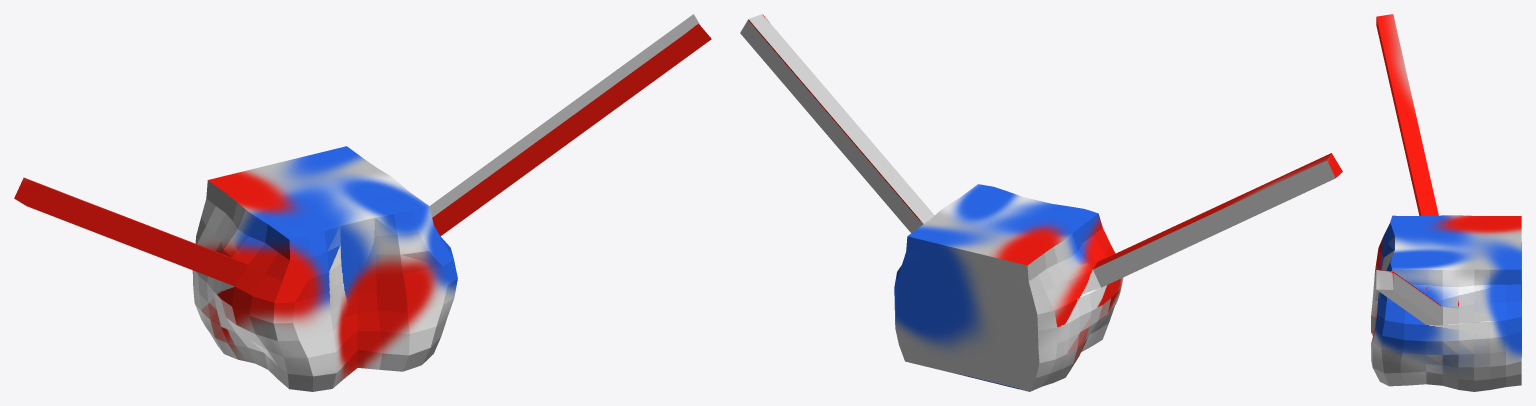
3 views of the same model, side by side, from view 1: azimuth 30°, elevation 25°; view 2: azimuth 150°, elevation 25°; view 3: azimuth 270°, elevation 25° (orthographic). The views are drawn at different scales.
Parts seen in each view (by area): view 1: Cube; view 2: Cube; view 3: Cube.
Part boxes in pixels (left/top/right/bottom): Cube: left=14, top=14, right=711, bottom=391; Cube: left=740, top=14, right=1342, bottom=391; Cube: left=1371, top=14, right=1521, bottom=391.
Size of the model in its own units: 9.92 by 3.82 by 2.39.
Materials: 1 (1 with a texture image).
